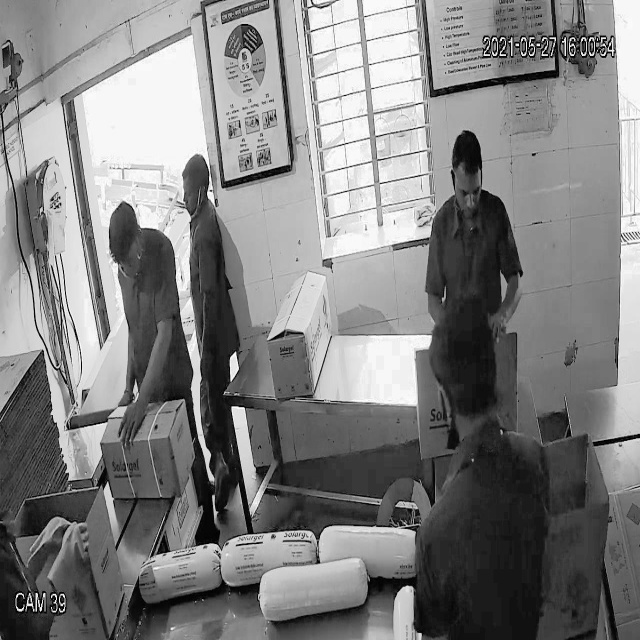Sin_gafas: (451, 175, 486, 207)
